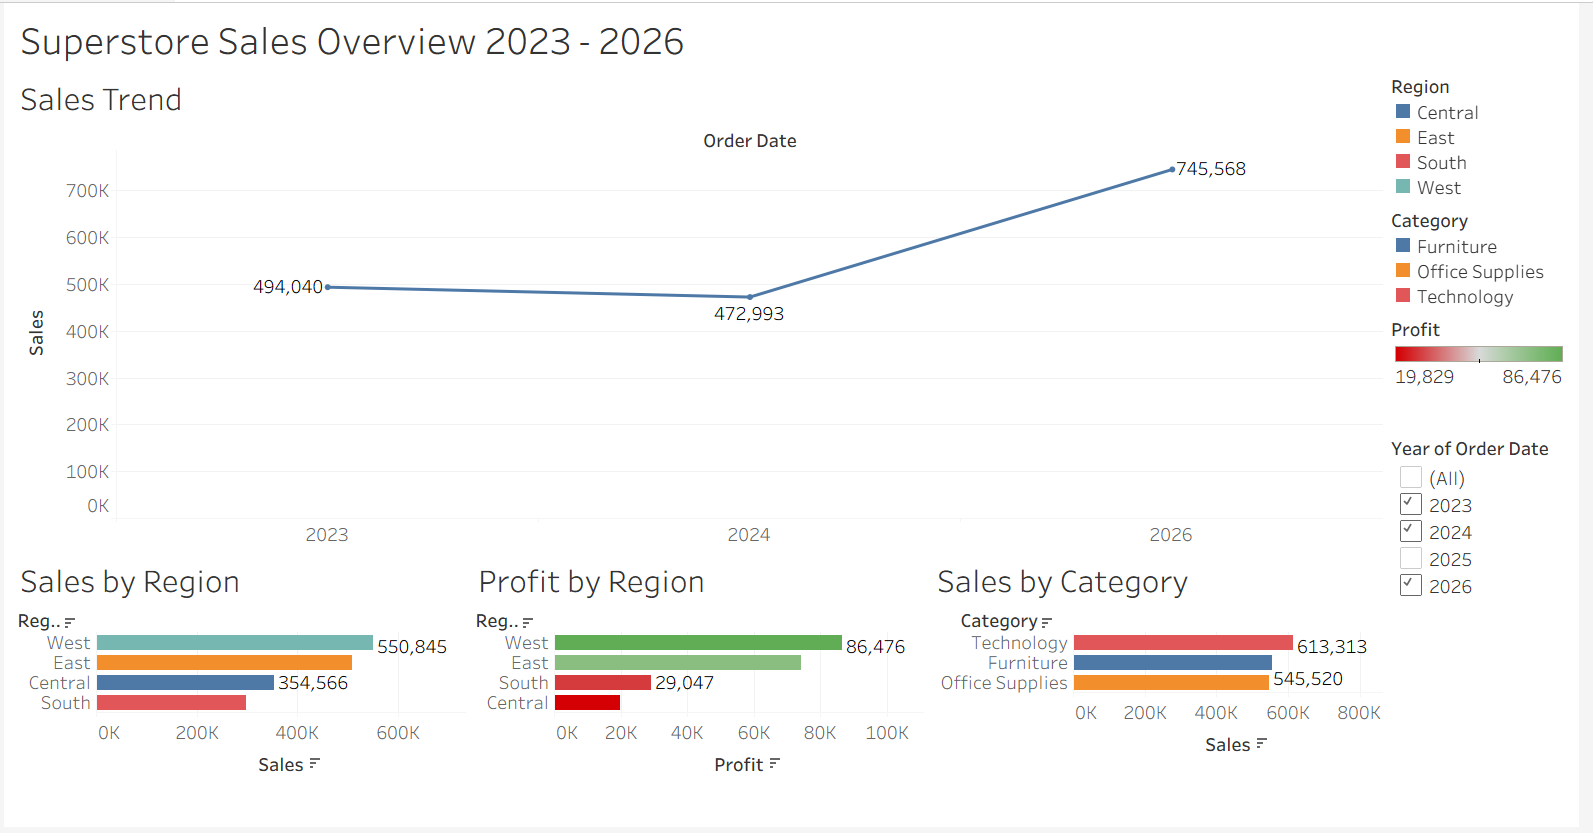

The page's visual inventory and layout, read from the dashboard file:
{"tool":"tableau","page":{"name":"Dashboard 2","canvas":[1000,1000],"units":"permille","ordinal":0},"visuals":[{"type":"title","box":[5.1,9.7,989.8,70.4]},{"type":"worksheet","title":"Sales Trend","mark":"Automatic","rows":["Sales"],"cols":["Order Date"],"box":[5.1,80.1,873,584.6]},{"type":"legend","title":"Sales by Region","param":"[federated.0t10jmg08oxs7h17osiaq18cdp12].[none:Region:nk]","box":[878.1,80.1,116.8,162.6]},{"type":"legend","title":"Sales by Category","param":"[federated.0t10jmg08oxs7h17osiaq18cdp12].[none:Category:nk]","box":[878.1,242.7,116.8,132.3]},{"type":"legend","title":"Profit by Region","param":"[federated.0t10jmg08oxs7h17osiaq18cdp12].[sum:Profit:qk]","box":[878.1,375,116.8,144.4]},{"type":"filter","title":"Sales Trend","param":"[federated.0t10jmg08oxs7h17osiaq18cdp12].[yr:Order Date:ok]","box":[878.1,519.4,116.8,256.1]},{"type":"worksheet","title":"Sales by Region","mark":"Automatic","rows":["Region"],"cols":["Sales"],"box":[5.1,664.7,291,325.6]},{"type":"worksheet","title":"Profit by Region","mark":"Automatic","rows":["Region"],"cols":["Profit"],"box":[296.1,664.7,291,325.6]},{"type":"worksheet","title":"Sales by Category","mark":"Automatic","rows":["Category"],"cols":["Sales"],"box":[587.1,664.7,291,325.6]}]}

Visuals, with their boxes on the dashboard's canvas, which has no fixed pixel size, in thousandths of its width and height (x1, y1, x2, y2). These are canvas units, not pixel positions in the 1593x833 screenshot, which may show the page scaled, cropped or inside an application window:
title: BBox(5, 10, 995, 80)
"Sales Trend" worksheet: BBox(5, 80, 878, 665)
"Sales by Region" legend: BBox(878, 80, 995, 243)
"Sales by Category" legend: BBox(878, 243, 995, 375)
"Profit by Region" legend: BBox(878, 375, 995, 519)
"Sales Trend" filter: BBox(878, 519, 995, 776)
"Sales by Region" worksheet: BBox(5, 665, 296, 990)
"Profit by Region" worksheet: BBox(296, 665, 587, 990)
"Sales by Category" worksheet: BBox(587, 665, 878, 990)
